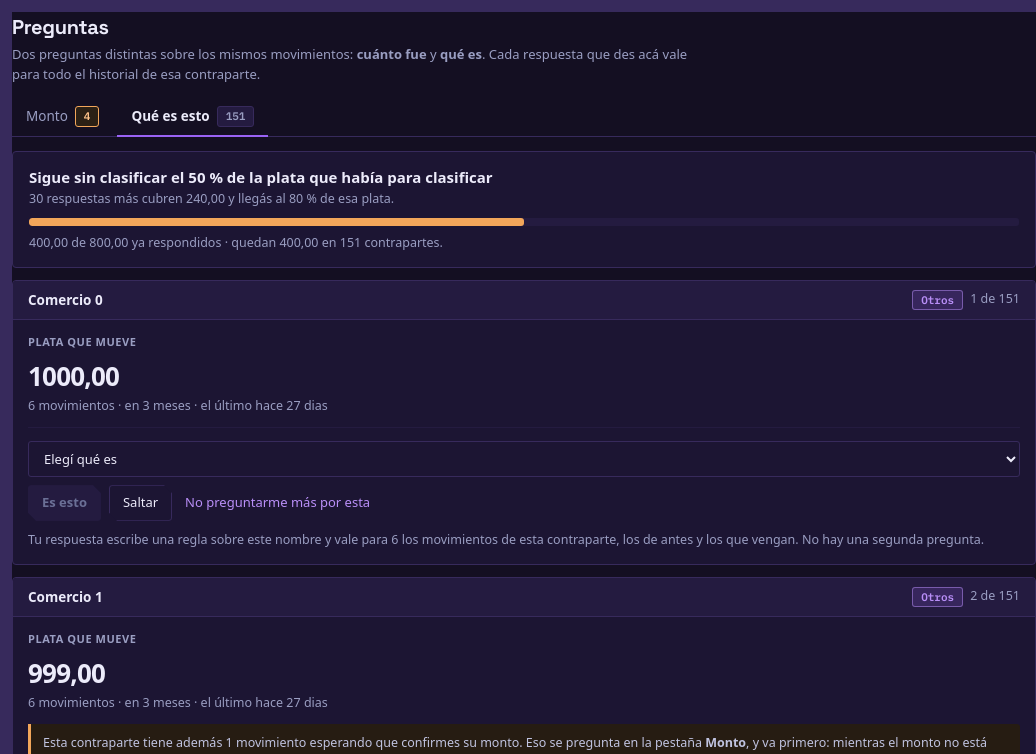
Test: pestaña 'Qué es esto' — 151 grupos por plata › F13/R19: si no cambió nada, dice por qué
Select "Salud y medicina" in the dropdown with test id "classify-selector" at x=524, y=459, box [28,441,1020,477]
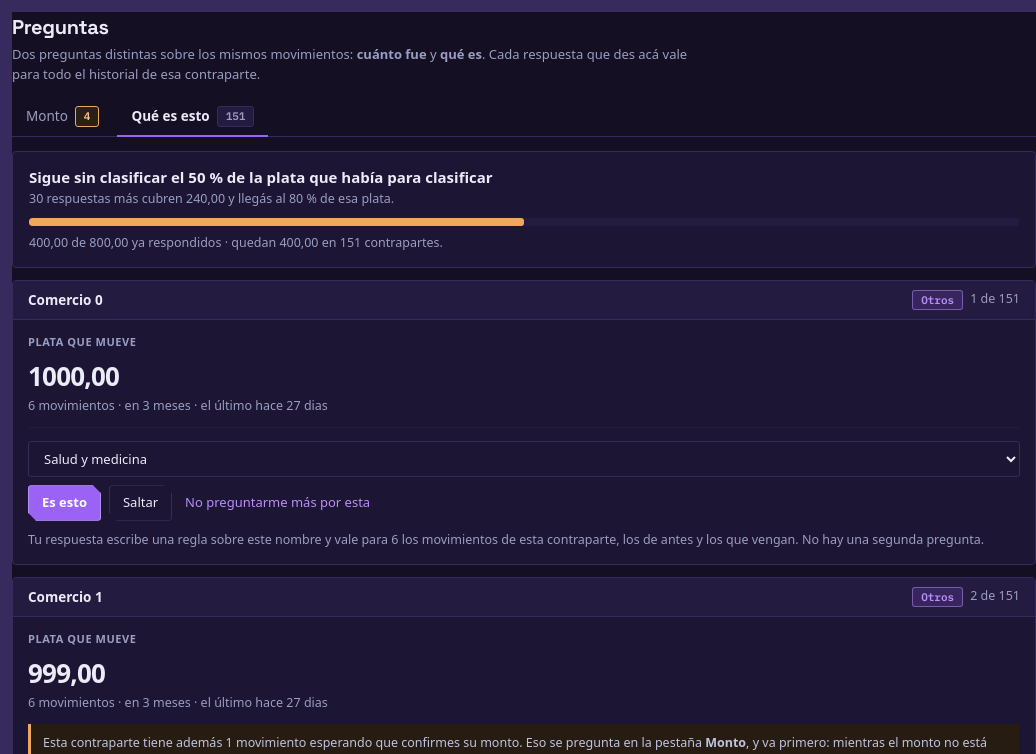
Click the button with test id "classify-responder" at x=64, y=503, box [28,485,101,521]
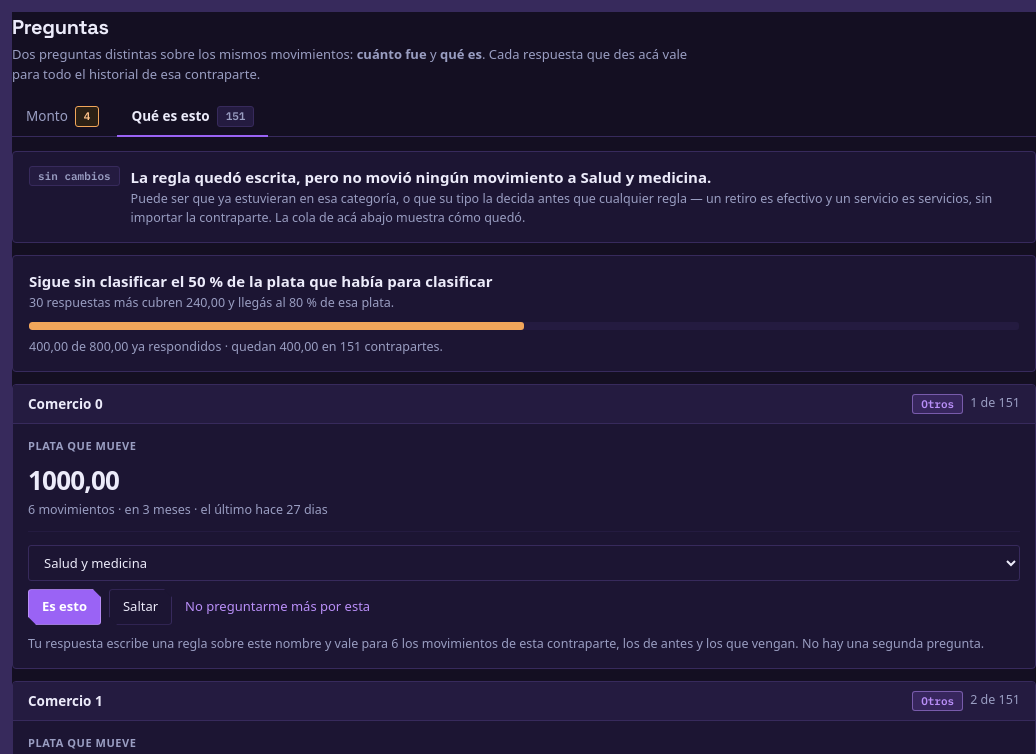
Result: the element with test id "efecto" shows "no movió ningún movimiento" at [131,166,711,186]
Result: the element with test id "efecto" shows "su tipo la decida antes que cualquier regla" at [131,190,992,226]
